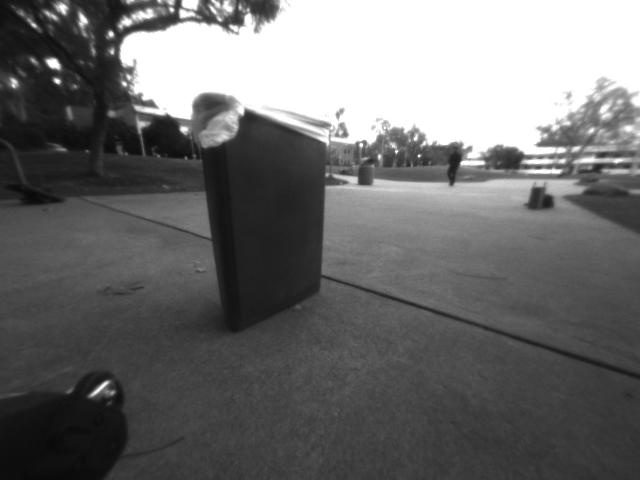trashcan_open: (183, 85, 338, 337)
